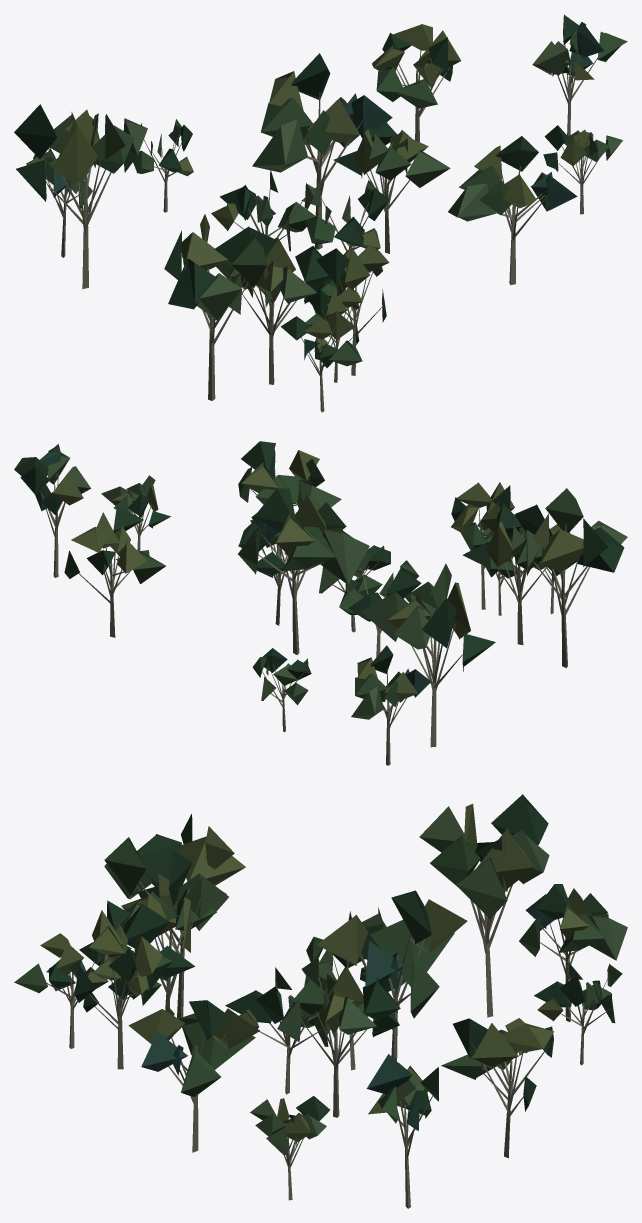
File: forest_18_19.dae
3 views of the same model, one above another, from view 1: azimuth 30°, elevation 25°; view 2: azimuth 150°, elevation 25°; view 3: azimuth 270°, elevation 25° (orthographic). The views are drawn at different scales.
Visible parts, largest first — view 1: Node; view 2: Node; view 3: Node.
Part boxes in pixels (x1=…): Node: x1=14, y1=14, x2=627, y2=412; Node: x1=14, y1=441, x2=627, y2=765; Node: x1=14, y1=794, x2=627, y2=1208.
Bounding box in the file's own units: 11.22 × 9.4 × 4.22.
